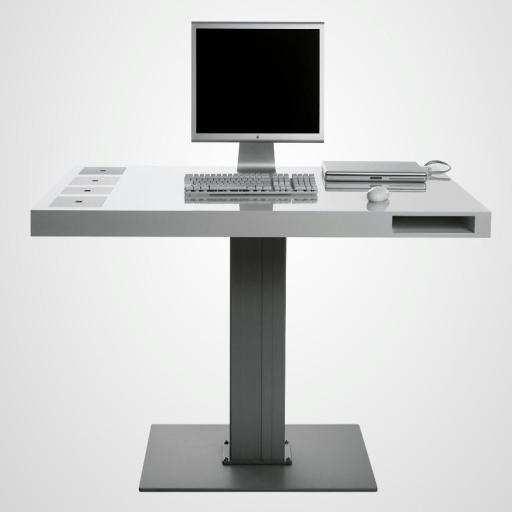desk: (30, 164, 491, 492)
